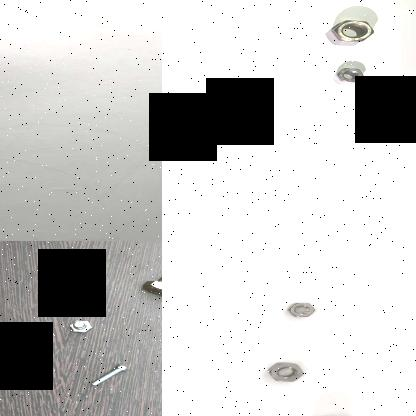Bolts: (88, 361, 134, 387), (136, 262, 162, 298), (66, 317, 96, 336)
NUTS: (254, 358, 312, 386), (330, 18, 376, 46), (282, 299, 322, 325), (334, 66, 365, 86)
